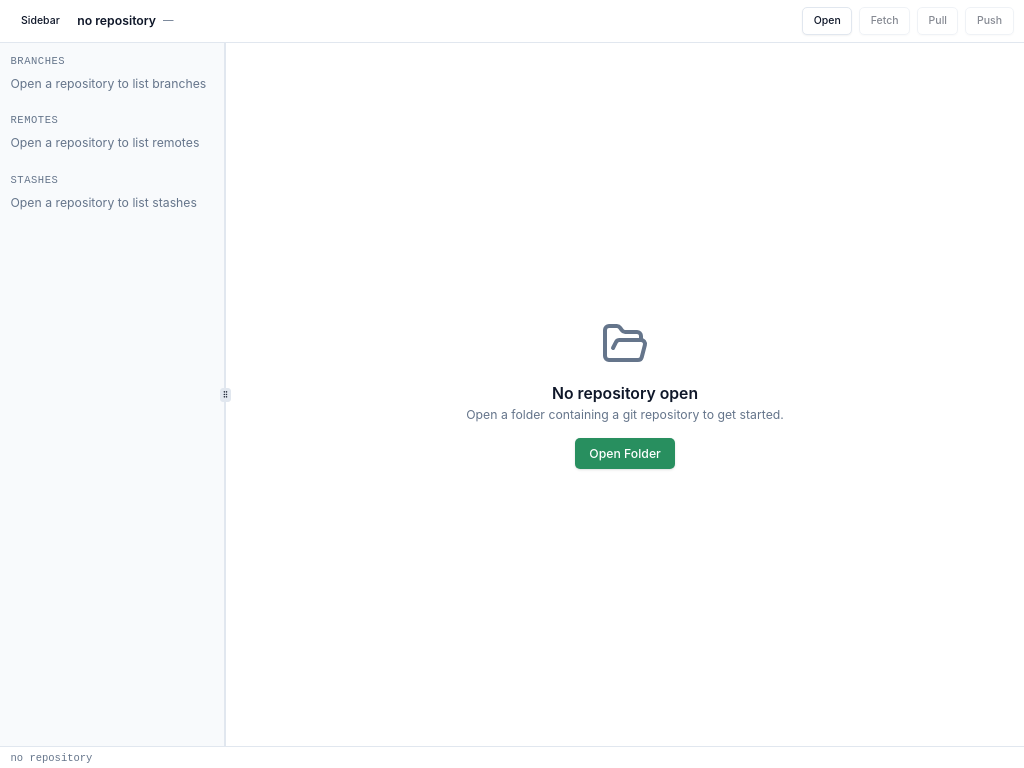
Test: App shell › toasts dialog failures from the header browse action
Press the mouse on the button "Open" at x=827, y=21, box 802,7 -> 852,35
Click the button "Open" at x=827, y=21, box 802,7 -> 852,35
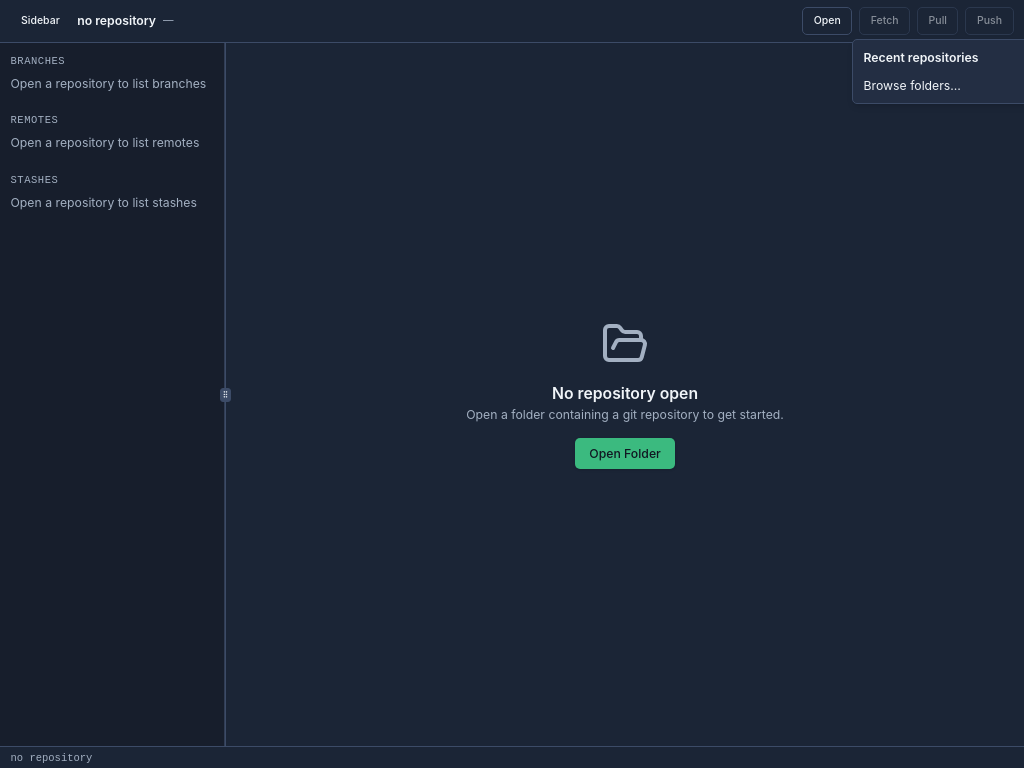
Click the menu item "Browse folders…" at x=912, y=85, box 864,78 -> 961,93
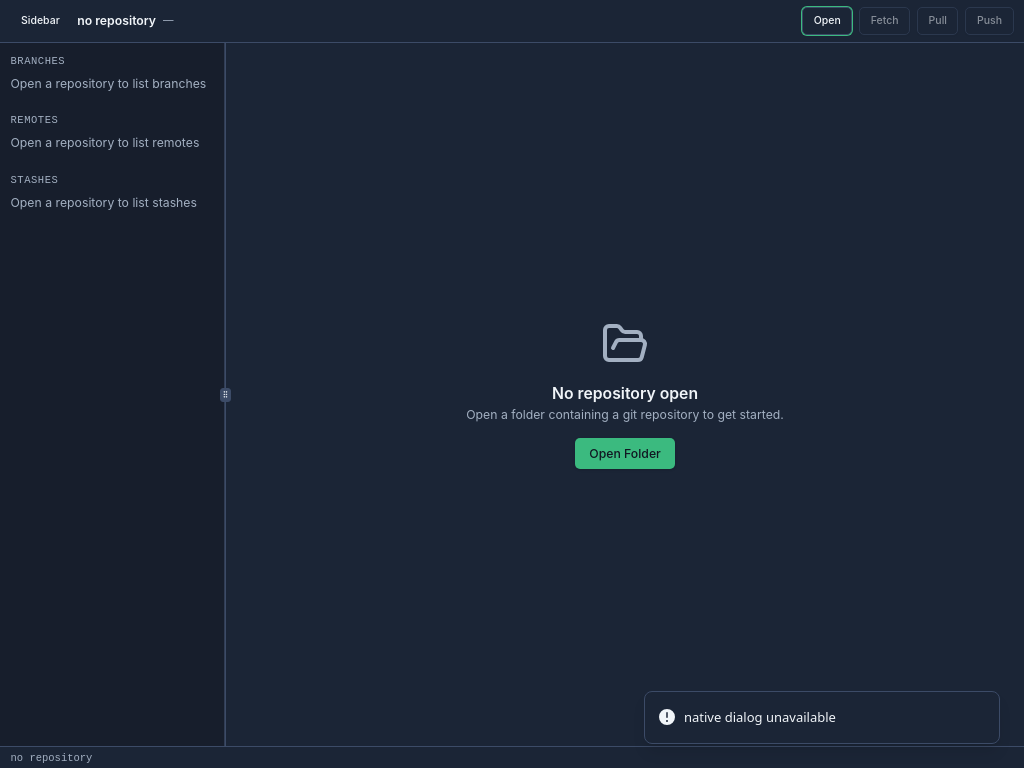
Check: the text "native dialog unavailable" is shown, box 684,708 -> 836,727
